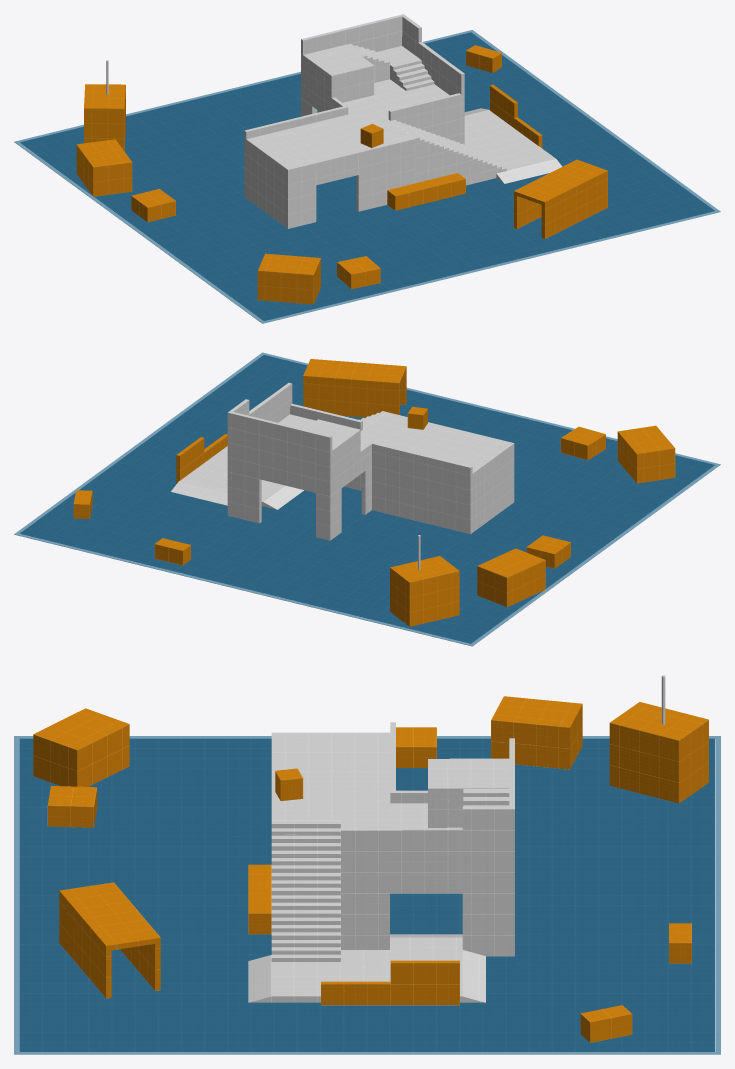
File: samplescene.gltf
3 renders of one model, top to bottom at view 1: azimuth 30°, elevation 25°; view 2: azimuth 150°, elevation 25°; view 3: azimuth 270°, elevation 25°, orthographic. The views are drawn at different scales.
Visible parts, largest first — view 1: Ground_Mesh, Structure_Prefab, Box_350x250x200_Prefab (×2), Tunnel_Prefab, border (×4), Ramp_Mesh, Stairs_650_400_300_Prefab, Box_350x250x300_Prefab, Wall_Prefab, Stairs_200x100x200_Prefab; view 2: Ground_Mesh, Structure_Prefab, Box_350x250x200_Prefab (×2), Tunnel_Prefab, border (×4), Box_350x250x300_Prefab, Ramp_Mesh, Wall_Prefab; view 3: Ground_Mesh, Structure_Prefab, Box_350x250x200_Prefab (×2), Stairs_650_400_300_Prefab, Ramp_Mesh, Box_350x250x300_Prefab, Tunnel_Prefab, border (×4), Wall_Prefab, Box_100x100x100_Prefab (14), Box_100x100x100_Prefab (13), Stairs_200x100x200_Prefab(1) (+6 smaller).
Boxes of the visible parts, x1,y1,x2,y2 form: Ground_Mesh: (20, 32, 714, 320); Structure_Prefab: (244, 14, 471, 228); Box_350x250x200_Prefab (×2): (76, 139, 320, 304); Tunnel_Prefab: (513, 159, 607, 238); border (×4): (14, 30, 720, 323); Ramp_Mesh: (464, 108, 562, 183); Stairs_650_400_300_Prefab: (391, 120, 506, 183); Box_350x250x300_Prefab: (84, 84, 125, 151); Wall_Prefab: (490, 84, 542, 148); Stairs_200x100x200_Prefab: (390, 58, 434, 90); Ground_Mesh: (20, 355, 714, 643); Structure_Prefab: (227, 382, 514, 540); Box_350x250x200_Prefab (×2): (477, 425, 675, 606); Tunnel_Prefab: (303, 359, 406, 417); border (×4): (14, 352, 720, 646); Box_350x250x300_Prefab: (390, 556, 459, 626); Ramp_Mesh: (171, 446, 303, 509); Wall_Prefab: (176, 434, 227, 483); Ground_Mesh: (19, 738, 714, 1051); Structure_Prefab: (271, 722, 514, 956); Box_350x250x200_Prefab (×2): (33, 696, 582, 786); Stairs_650_400_300_Prefab: (271, 820, 340, 961); Ramp_Mesh: (248, 934, 485, 1002); Box_350x250x300_Prefab: (609, 702, 708, 803); Tunnel_Prefab: (59, 882, 160, 998); border (×4): (14, 736, 720, 1054); Wall_Prefab: (321, 960, 459, 1005); Box_100x100x100_Prefab (14): (580, 1009, 611, 1042); Box_100x100x100_Prefab (13): (275, 768, 303, 800); Stairs_200x100x200_Prefab(1): (463, 789, 509, 806).
Size of what is drawn, in the model's own units: 32.5 by 7.01 by 30.5.
Materials: 5 (4 with a texture image).
